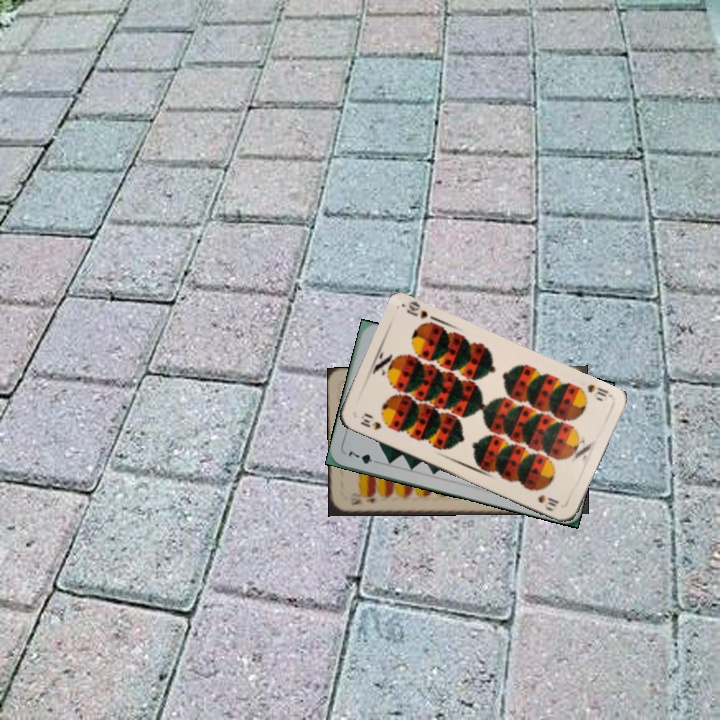E10: (347, 491, 378, 508)
G7: (344, 447, 383, 467)
S10: (356, 411, 384, 433), (583, 380, 613, 399)
